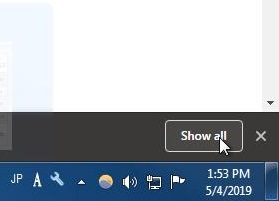cursor: (218, 136, 231, 156)
